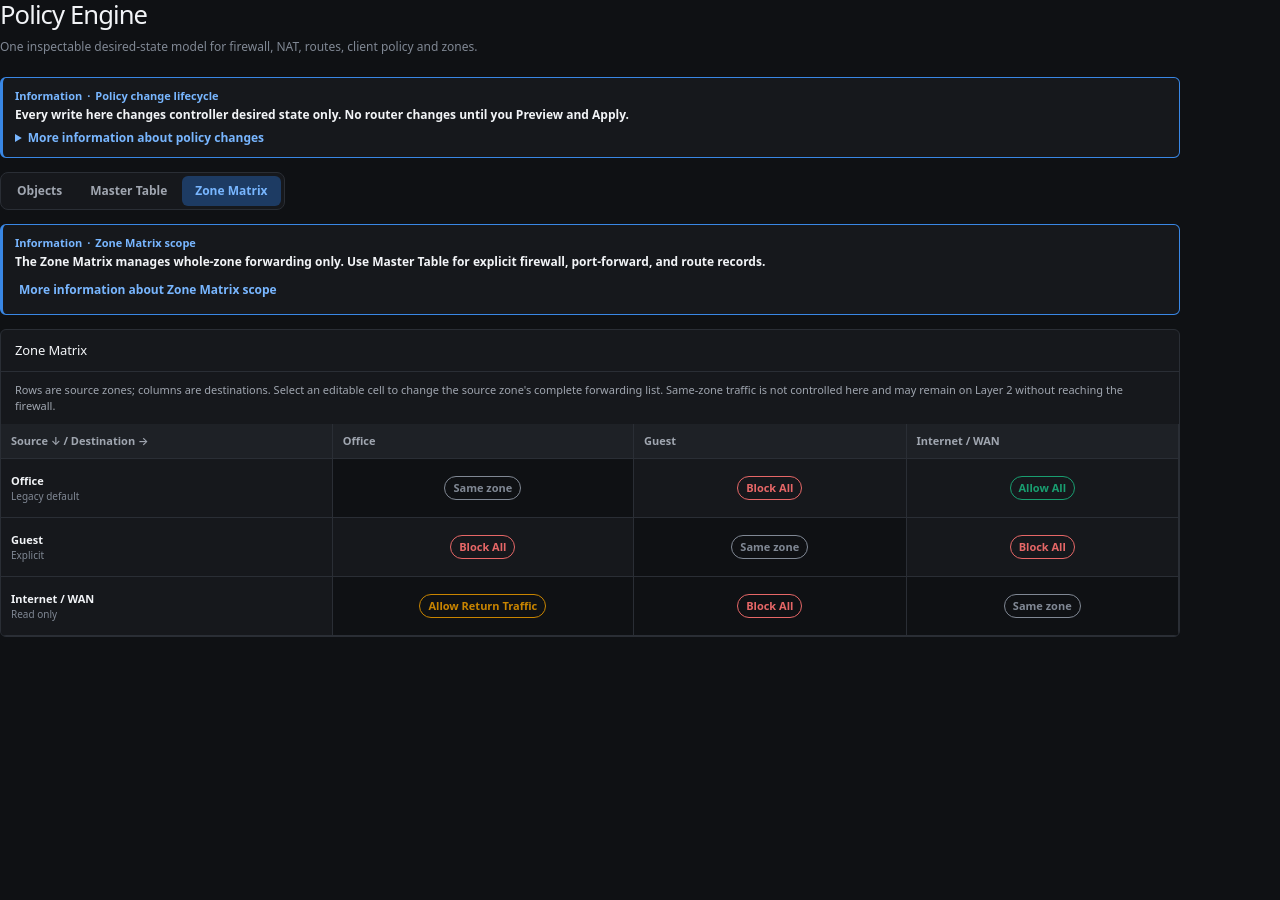
Test: Policy Engine › keeps every WAN-source matrix cell read-only and points to explicit rules
Expected: the text "manages whole-zone forwarding only" is shown, [15,253,765,270]
Step 1. Click the button "More information about Zone Matrix scope" → [148, 290], box [15,276,281,304]
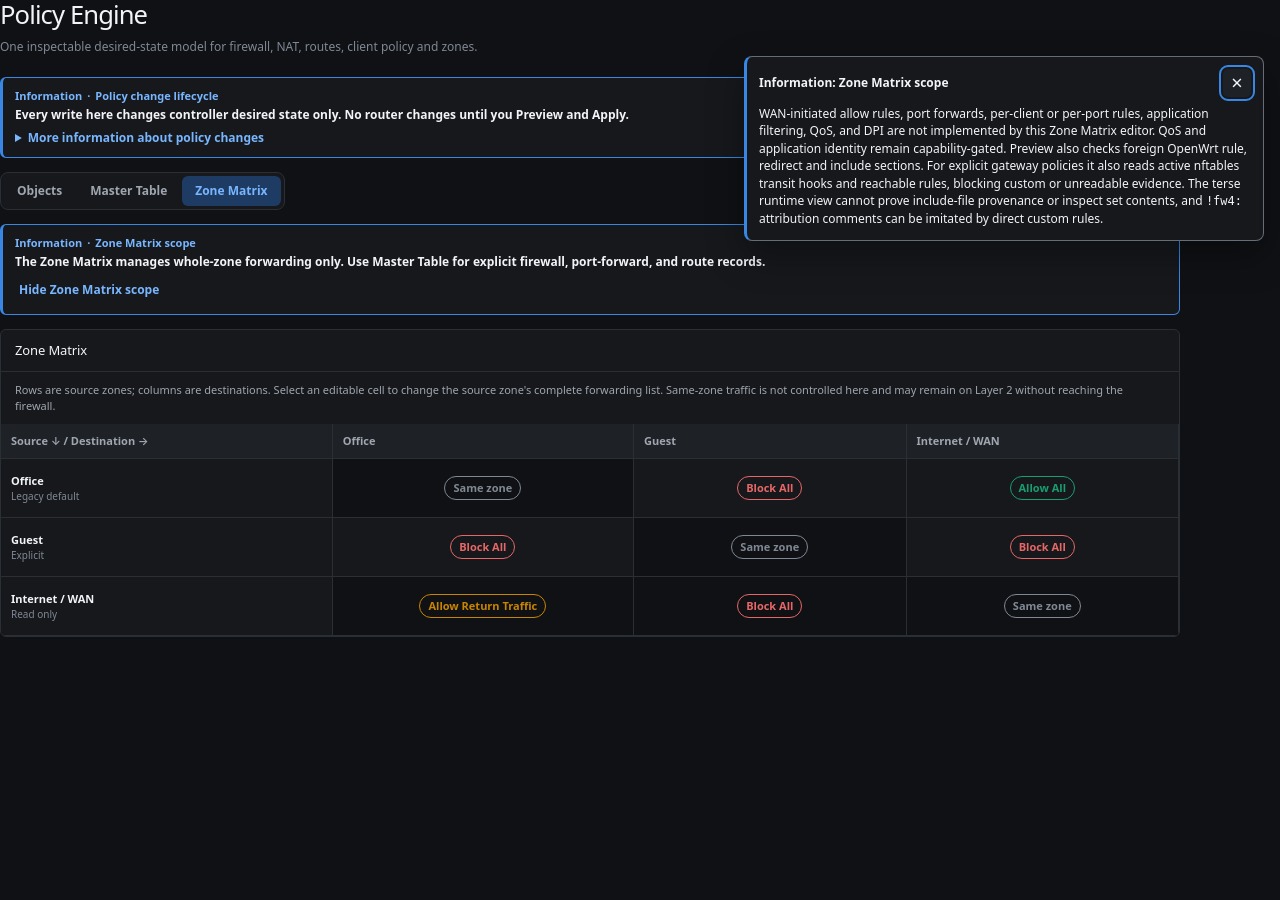
Now the button named "More information about Zone Matrix scope" is expanded, box [15,276,163,304]
Now the dialog "Information: Zone Matrix scope" shows "WAN-initiated allow rules, port forwards, per-client or per-port rules, application filtering, QoS, and DPI are not implemented by this Zone Matrix editor", box [759,105,1247,209]
Now the dialog "Information: Zone Matrix scope" shows "explicit gateway policies it also reads active nftables transit hooks and reachable rules", box [759,105,1247,209]
